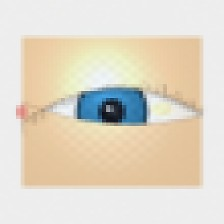pinguecula_lesion: (141, 92, 183, 126)
